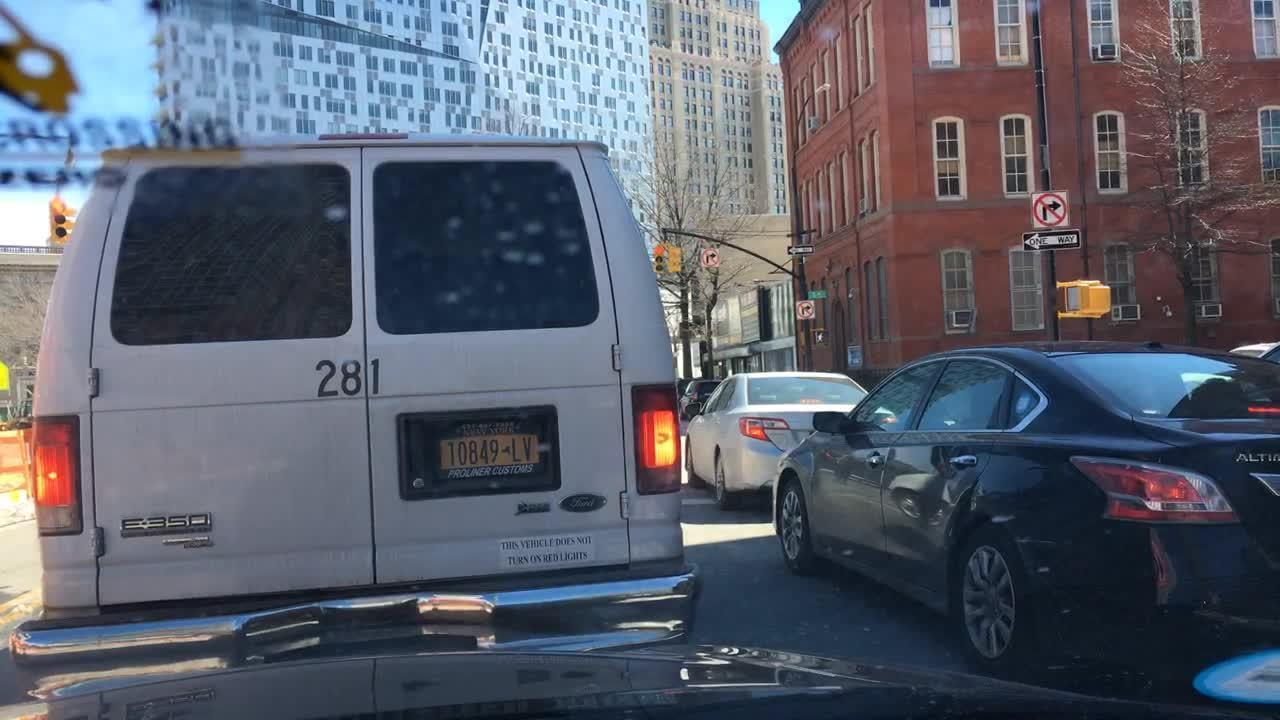ford: (559, 488, 613, 522)
